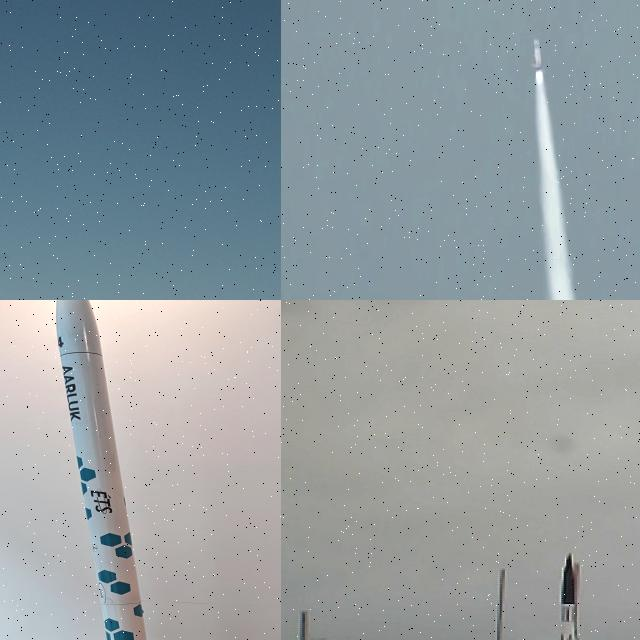Rocket: (56, 300, 147, 640), (540, 551, 593, 640), (532, 38, 544, 78)
